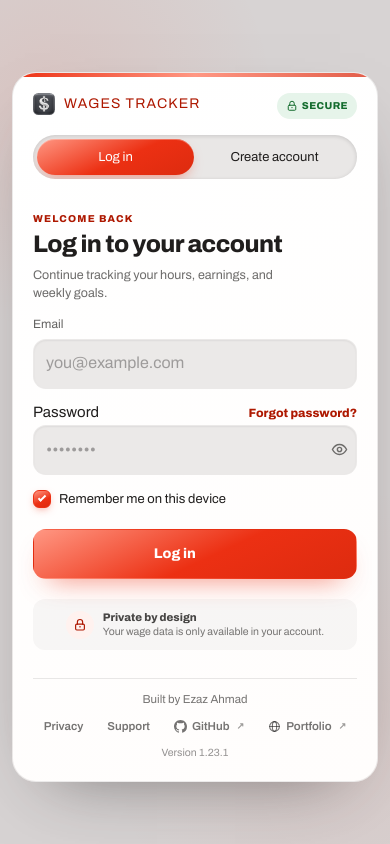
forgot-password auth flow › surfaces network/configuration failures without showing a false success
Click the button "Forgot password?" at (303, 413), box [241, 391, 365, 435]
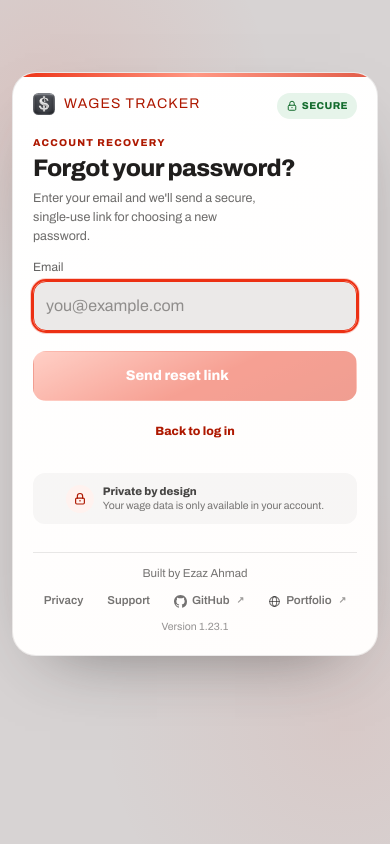
Type "sam@example.com" into the field labelled "Email" at (195, 306), box [33, 281, 357, 331]
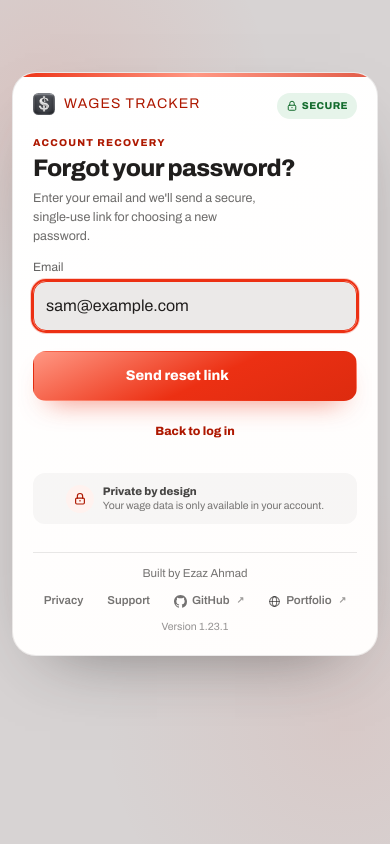
Click the button "Send reset link" at (195, 376), box [33, 351, 357, 401]
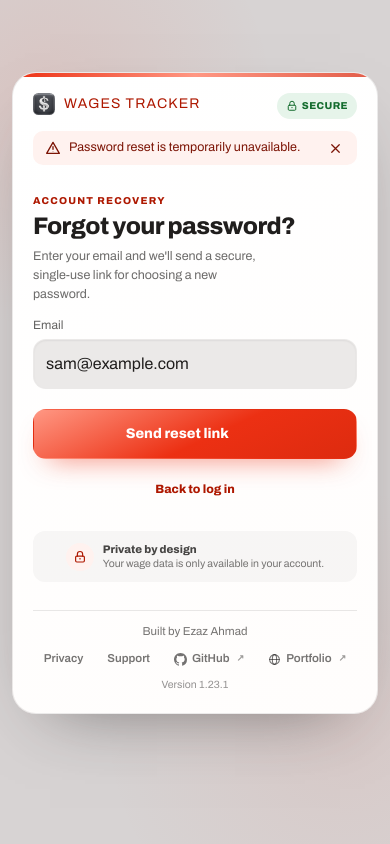
Check: the text "Password reset is temporarily unavailable." is shown, box [69, 139, 305, 156]
